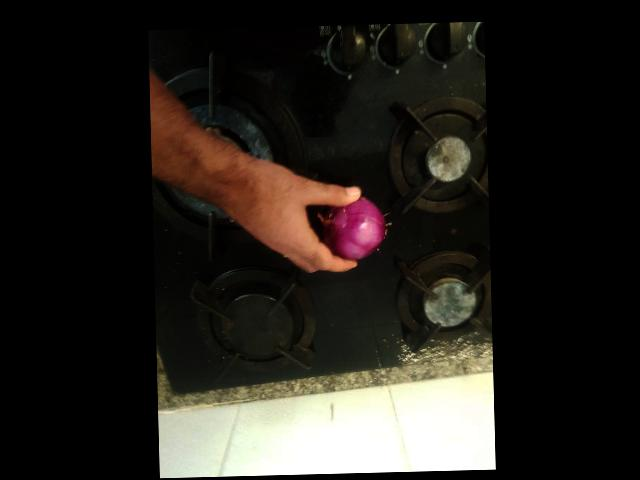onion: (368, 298, 440, 361)
